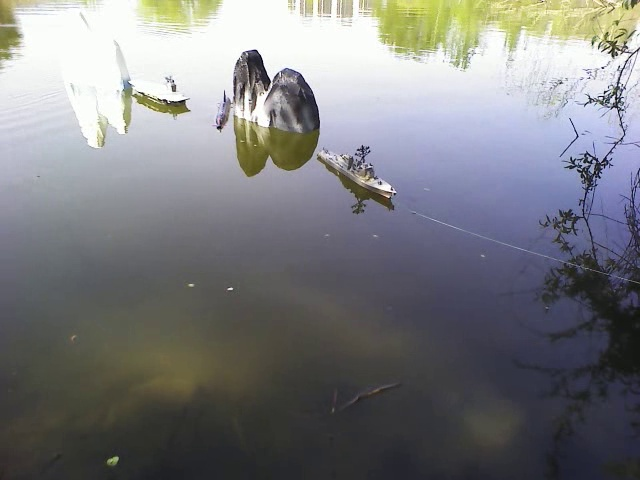aircraft_carrier: (131, 69, 190, 110)
rock: (232, 47, 323, 132)
submarine: (208, 91, 233, 131)
warship: (316, 144, 402, 205)
